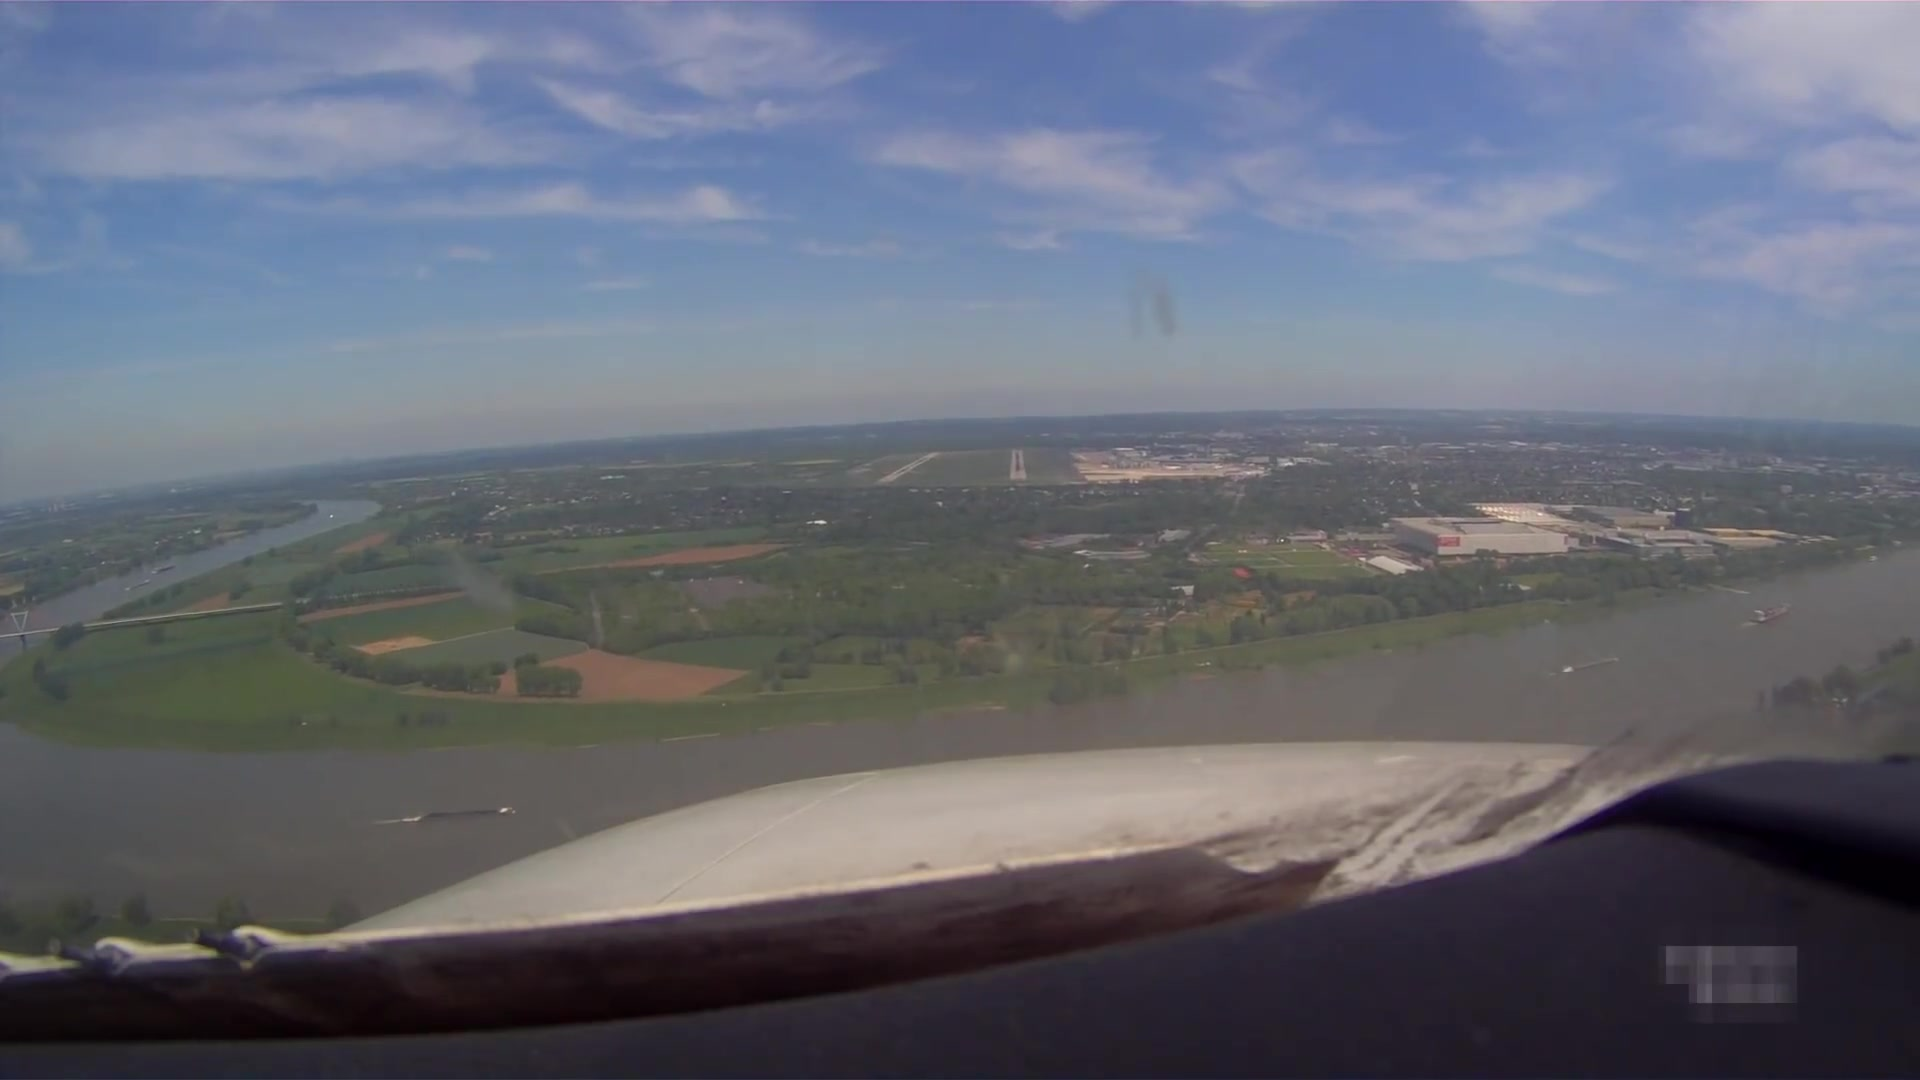runway: (876, 450, 938, 483), (1007, 447, 1029, 483)
